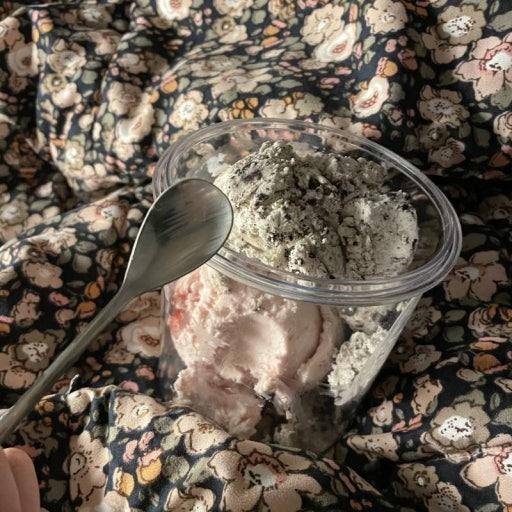Lunch Box: (153, 119, 461, 451)
